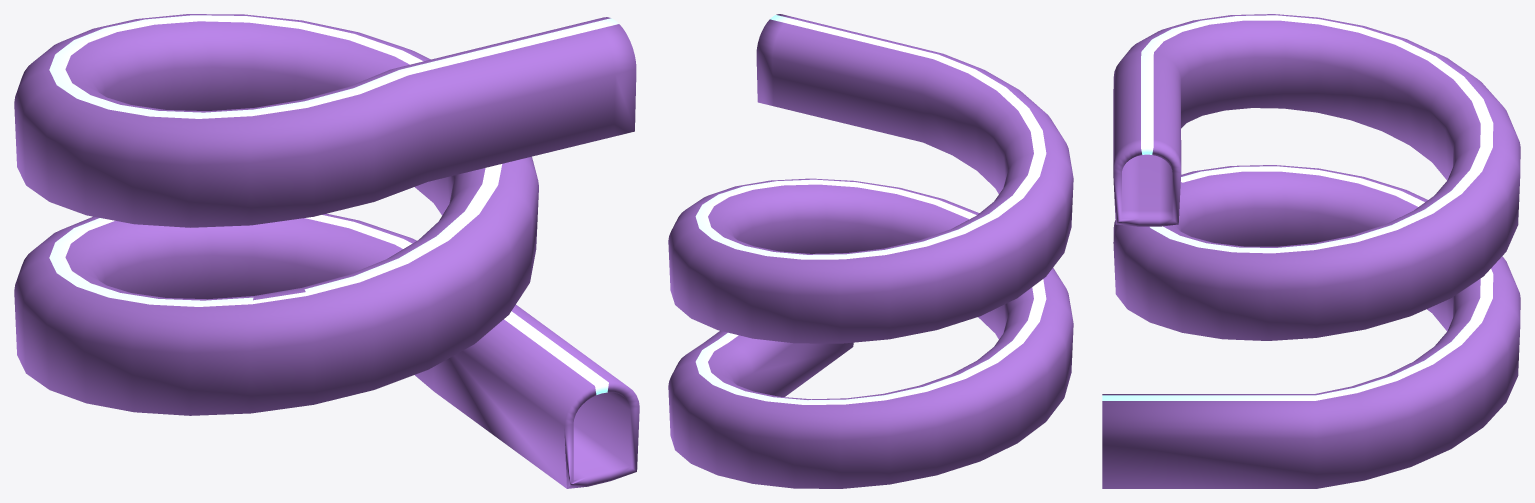
Rendered from interioredificio.fbx.
3 views of the same model, side by side, from view 1: azimuth 30°, elevation 25°; view 2: azimuth 150°, elevation 25°; view 3: azimuth 270°, elevation 25° (orthographic). The views are drawn at different scales.
Parts seen in each view (by area): view 1: Cube.001; view 2: Cube.001; view 3: Cube.001.
Boxes of the visible parts, x1,y1,x2,y2 form: Cube.001: [14, 14, 639, 488]; Cube.001: [668, 14, 1073, 488]; Cube.001: [1102, 14, 1520, 488].
Bounding box in the file's own units: 3501 × 3130 × 3420.
